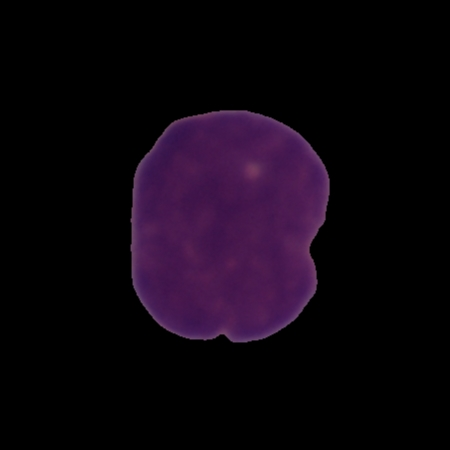ALL: (127, 105, 333, 346)
